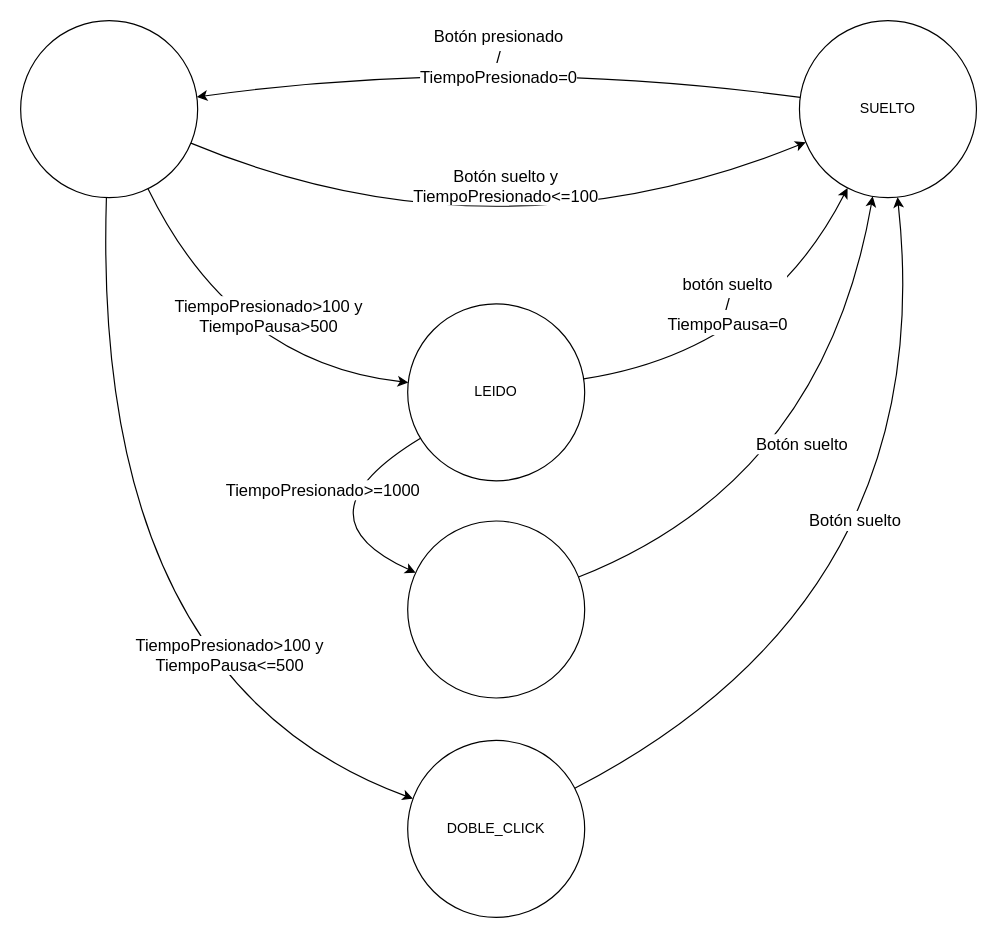
The diagram is 997 pixels wide and 938 high, and some of its shapes have lost their labels. Each missing label, with the centre of its shape:
"MANTENIDO" goes at point 496,609.
"PRESIONADO" goes at point 108,108.
